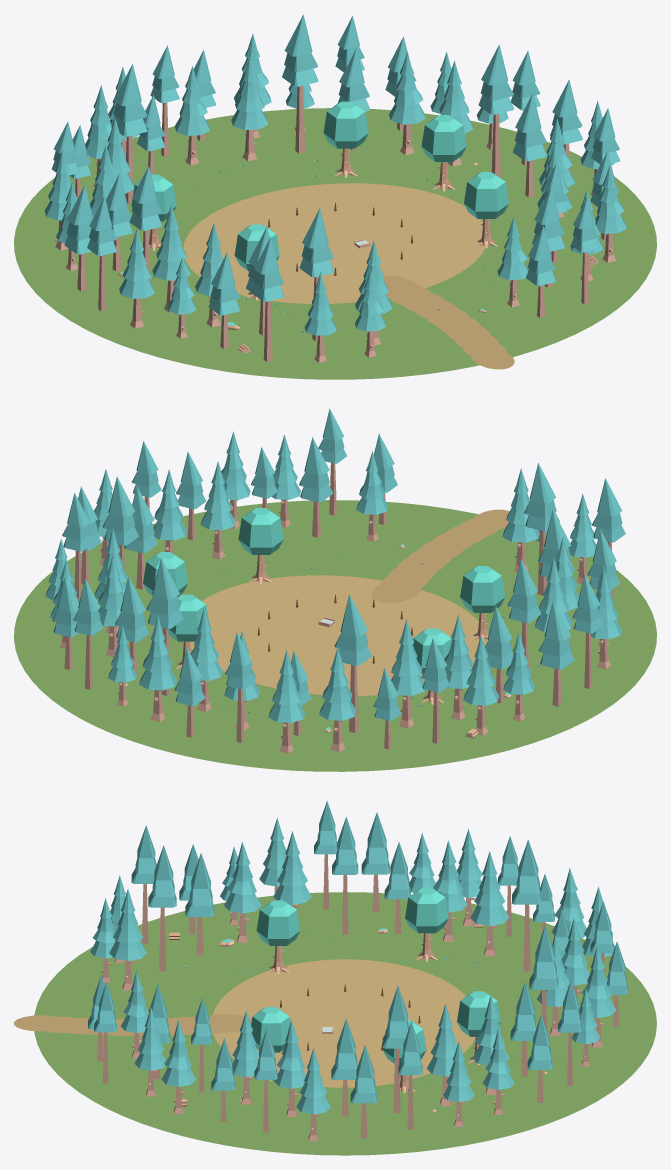
File: forest_defense_location.glb
3 renders of one model, top to bottom at view 1: azimuth 30°, elevation 25°; view 2: azimuth 150°, elevation 25°; view 3: azimuth 270°, elevation 25°, orthographic. The views are drawn at different scales.
Parts seen in each view (by area): view 1: TerrainBase, CentralClearing, ForestPine_005, ChoppableTree_05, ChoppableTree_03, ChoppableTree_02, ForestPine_001, ForestPine_009, ForestPine_006, ForestPine_045, ForestPine_003, ForestPine_000 (+47 smaller); view 2: TerrainBase, CentralClearing, ChoppableTree_02, ForestPine_009, ChoppableTree_01, ForestPine_010, ForestPine_031, ForestPine_035, ForestPine_040, ForestPine_034, ForestPine_005, ForestPine_017 (+48 smaller); view 3: TerrainBase, CentralClearing, ChoppableTree_04, ChoppableTree_01, ForestPine_010, ForestPine_009, ForestPine_018, ForestPine_015, ForestPine_017, ForestPine_023, ForestPine_014, ForestPine_001 (+48 smaller).
Boxes of the visible parts, left/top/right/bottom form: TerrainBase: left=14, top=108, right=656, bottom=379; CentralClearing: left=183, top=183, right=485, bottom=303; ForestPine_005: left=282, top=14, right=318, bottom=153; ChoppableTree_05: left=323, top=101, right=368, bottom=177; ChoppableTree_03: left=421, top=115, right=466, bottom=191; ChoppableTree_02: left=464, top=172, right=508, bottom=248; ForestPine_001: left=478, top=44, right=513, bottom=177; ForestPine_009: left=111, top=64, right=147, bottom=203; ForestPine_006: left=231, top=56, right=268, bottom=160; ForestPine_045: left=251, top=237, right=284, bottom=361; ForestPine_003: left=389, top=51, right=425, bottom=154; ForestPine_000: left=513, top=93, right=546, bottom=197; TerrainBase: left=14, top=500, right=656, bottom=771; CentralClearing: left=190, top=575, right=487, bottom=695; ChoppableTree_02: left=238, top=508, right=283, bottom=584; ForestPine_009: left=334, top=594, right=371, bottom=732; ChoppableTree_01: left=460, top=566, right=505, bottom=641; ForestPine_010: left=391, top=619, right=424, bottom=728; ForestPine_031: left=139, top=616, right=176, bottom=721; ForestPine_035: left=319, top=647, right=356, bottom=751; ForestPine_040: left=538, top=601, right=574, bottom=706; ForestPine_034: left=268, top=650, right=304, bottom=753; ForestPine_005: left=146, top=557, right=183, bottom=695; ForestPine_017: left=524, top=463, right=559, bottom=595; TerrainBase: left=34, top=892, right=656, bottom=1155; CentralClearing: left=213, top=959, right=475, bottom=1087; ChoppableTree_04: left=405, top=887, right=448, bottom=961; ChoppableTree_01: left=256, top=900, right=300, bottom=973; ForestPine_010: left=470, top=851, right=509, bottom=956; ForestPine_009: left=512, top=839, right=541, bottom=971; ForestPine_018: left=109, top=889, right=146, bottom=990; ForestPine_015: left=224, top=842, right=261, bottom=942; ForestPine_017: left=148, top=845, right=176, bottom=971; ForestPine_023: left=274, top=1020, right=306, bottom=1116; ForestPine_014: left=273, top=831, right=311, bottom=907; ForestPine_001: left=382, top=985, right=409, bottom=1113.
Size of the model in its own units: 84 by 19.85 by 86.64.
